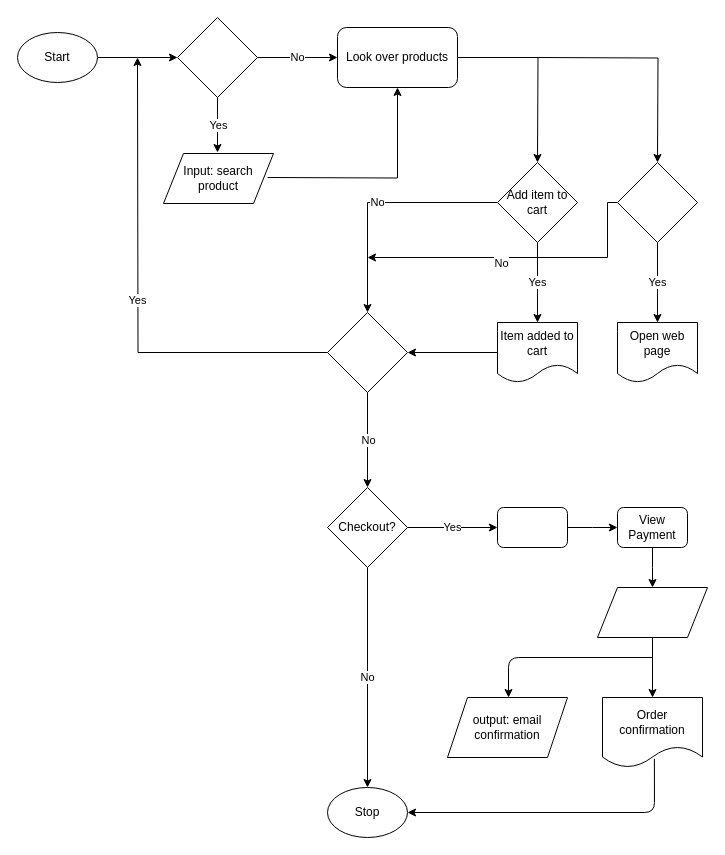
Some shapes in this 725 by 855 pixel diagram are drawn without their labels. Each missing label, with the box of its shape:
Continue shopping?: (326, 312, 408, 392)
Input: payment information: (596, 586, 708, 638)
Search for product?: (176, 16, 258, 98)
View Cart: (496, 506, 568, 548)
View item: (616, 162, 698, 242)
